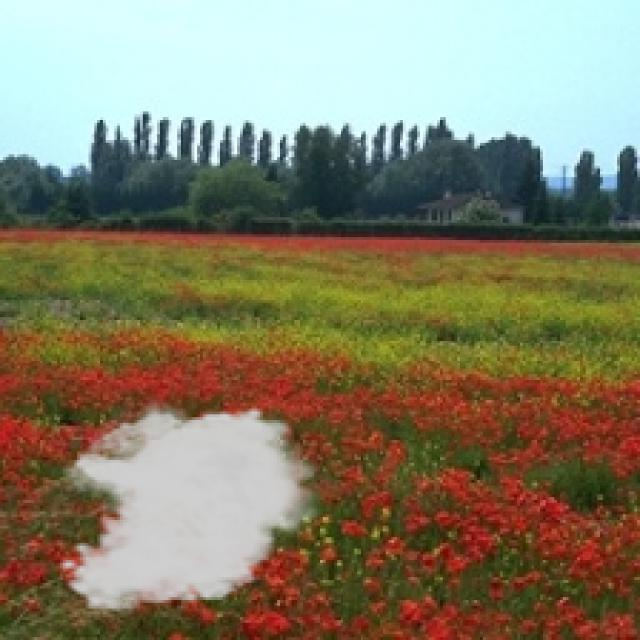Smoke: (57, 394, 329, 614)
